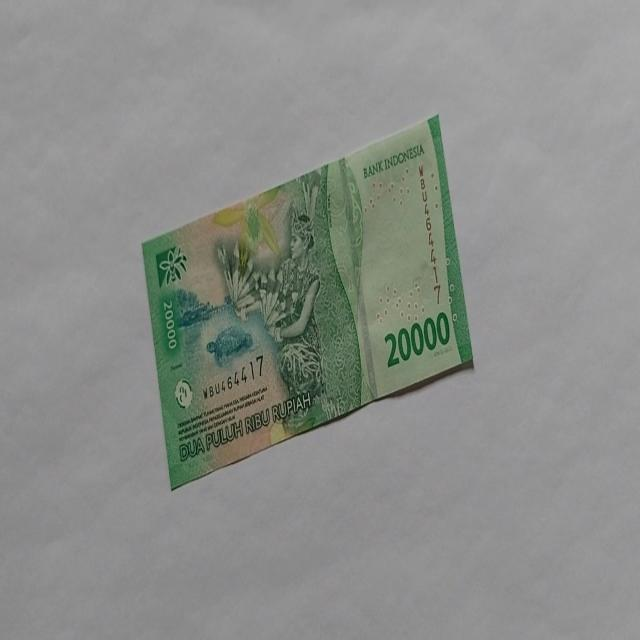dua puluh ribu rupiah: (140, 111, 474, 490), (383, 310, 451, 369)
